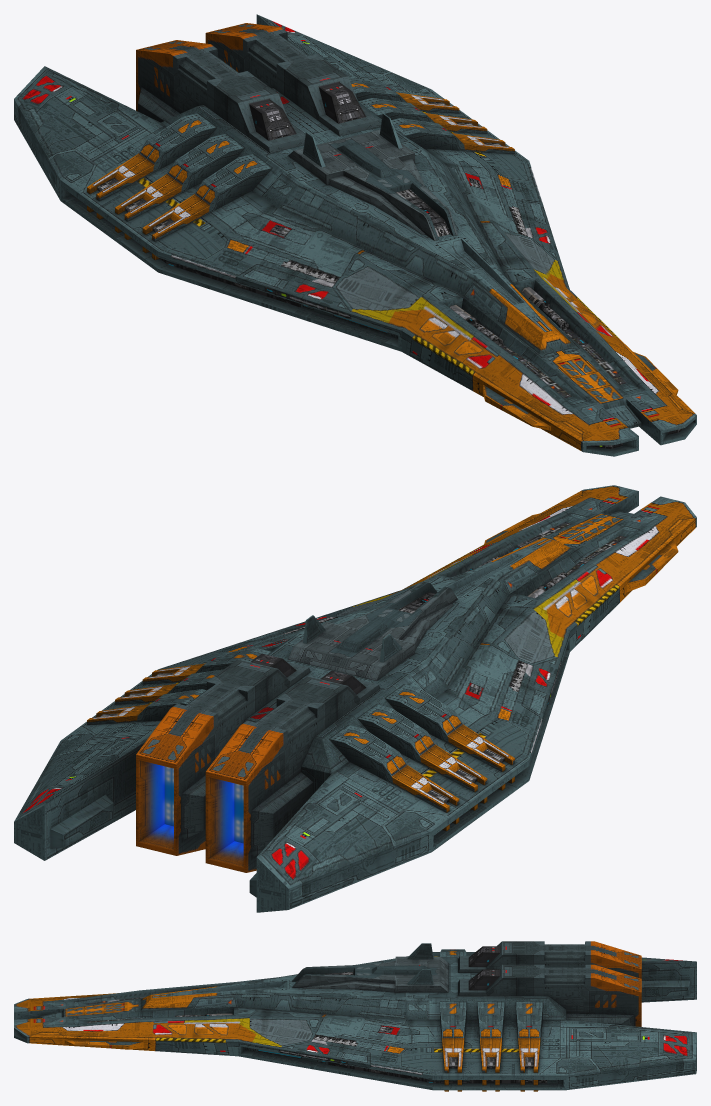
Rendered from new_ship-2.glb.
3 renders of one model, top to bottom at view 1: azimuth 30°, elevation 25°; view 2: azimuth 150°, elevation 25°; view 3: azimuth 270°, elevation 25°, orthographic. The views are drawn at different scales.
Visible parts, largest first — view 1: SciFi_Ship_Escort_FBX; view 2: SciFi_Ship_Escort_FBX; view 3: SciFi_Ship_Escort_FBX.
Part boxes in pixels (x1,y1,x2,y2): SciFi_Ship_Escort_FBX: (14,14,696,456); SciFi_Ship_Escort_FBX: (14,485,696,912); SciFi_Ship_Escort_FBX: (14,941,696,1091).
Size of the model in its own units: 15.25 by 5.29 by 35.53.
Materials: 1 (1 with a texture image).
